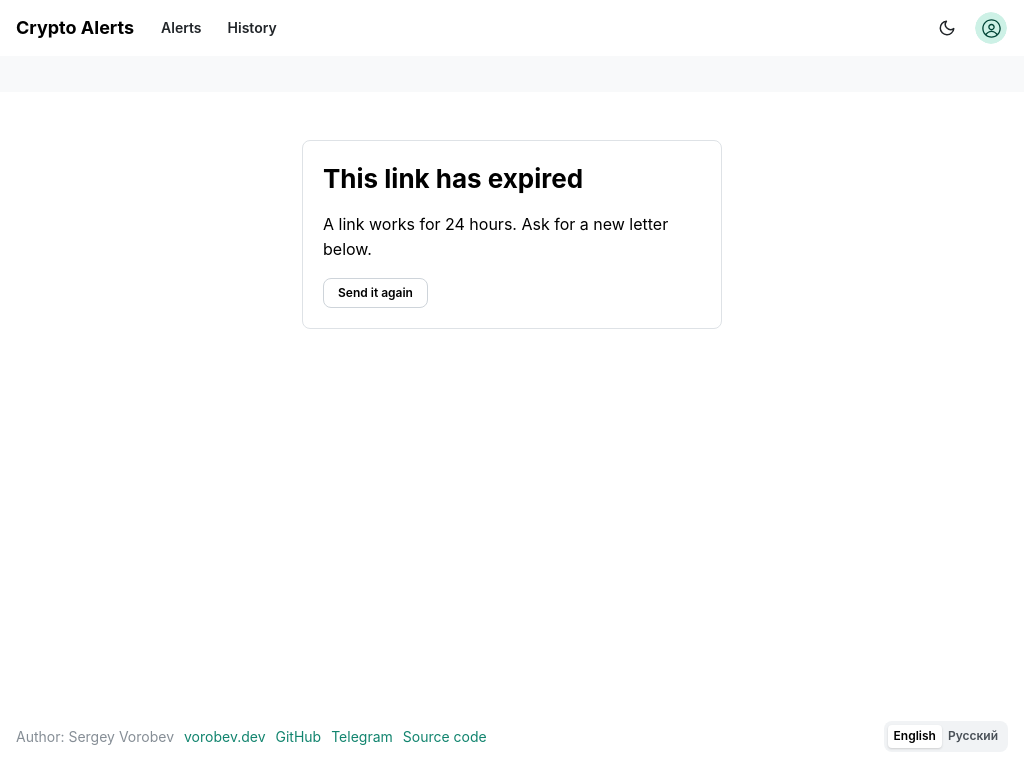
Test case: the Verification landing › resends from the landing for a person who is signed in
Click the button "Send it again" at (375, 293), box [323,278,428,308]
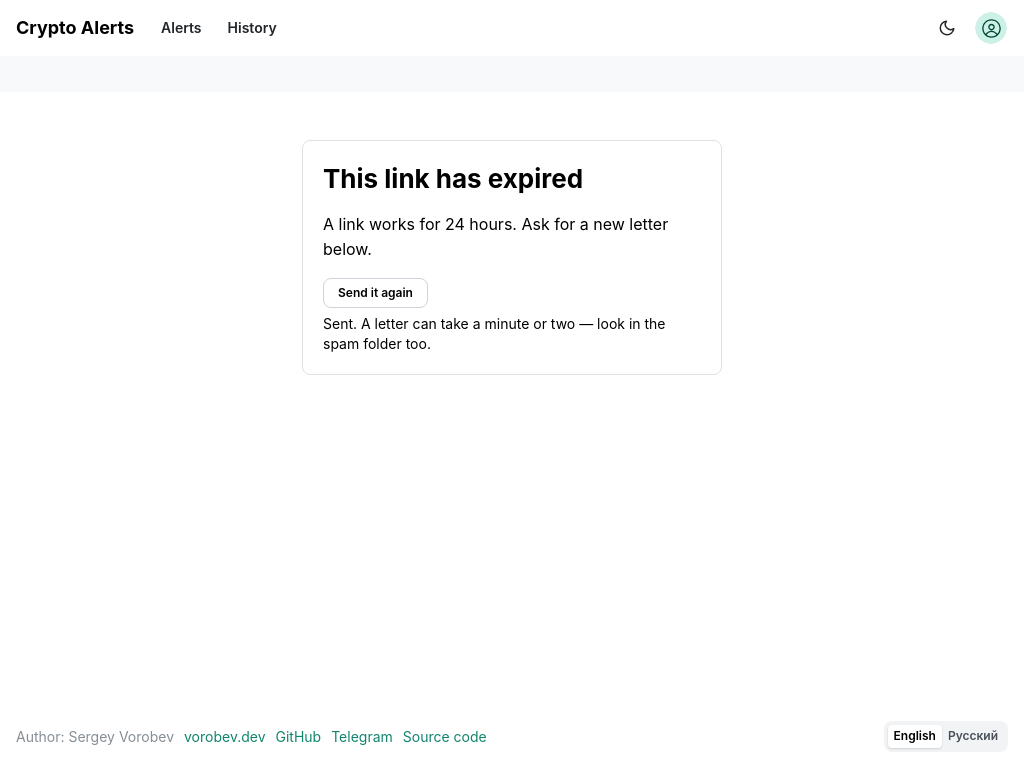
Check: the text "Sent. A letter can take a minute or two — look in the spam folder too." is shown, box [323,314,701,354]
